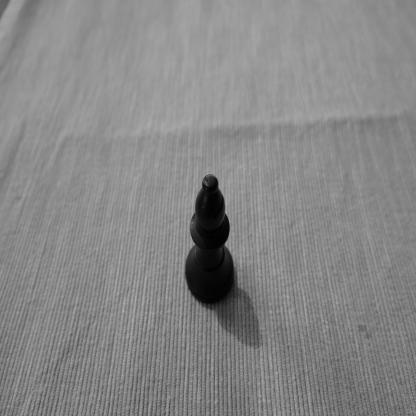black-bishop: (184, 173, 235, 306)
